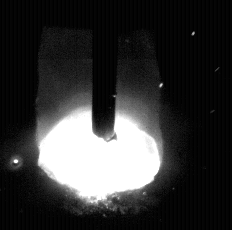arame: (92, 0, 117, 141)
poca: (36, 0, 163, 230)
